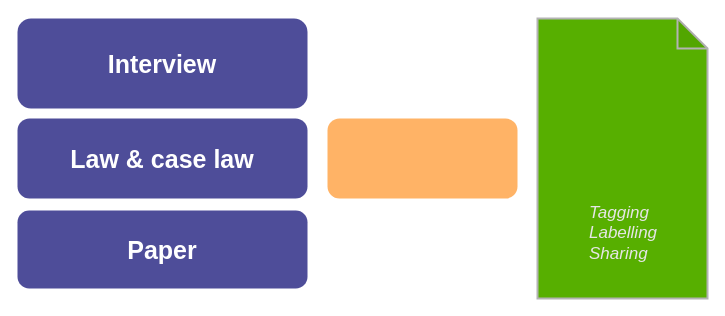
Image size: 725x316. Some labels were removed from this diagram. Here are the shapes that lost their labels. From the top down, the box of each, then its label:
(327, 118, 517, 198): Corpus
(536, 17, 708, 299): Text analysis
